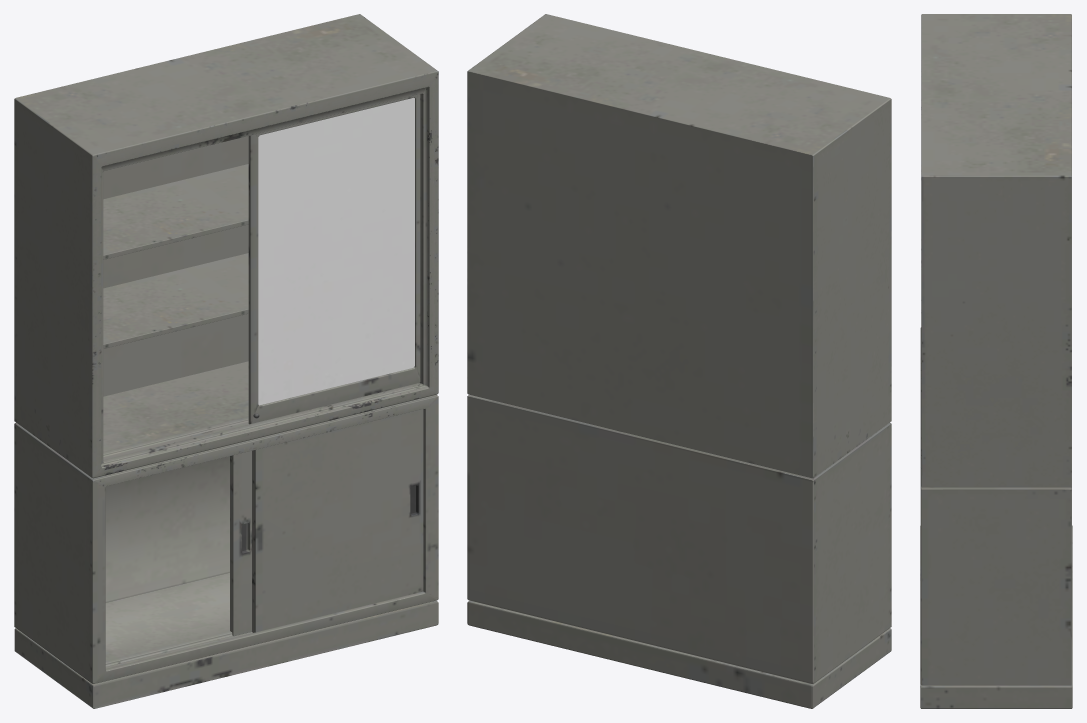
File: 195_OfficeCabinet.fbx
3 renders of one model, left to right at view 1: azimuth 30°, elevation 25°; view 2: azimuth 150°, elevation 25°; view 3: azimuth 270°, elevation 25°, orthographic. The views are drawn at different scales.
Parts seen in each view (by area): view 1: LOD_1_Group_0_Sub_1__sm30_028_OfficeCabinet03A_A_Mat, LOD_1_Group_0_Sub_2__sm30_028_OfficeCabinet03A_B_Mat; view 2: LOD_1_Group_0_Sub_1__sm30_028_OfficeCabinet03A_A_Mat; view 3: LOD_1_Group_0_Sub_1__sm30_028_OfficeCabinet03A_A_Mat.
Part boxes in pixels (bbox=[...]): LOD_1_Group_0_Sub_1__sm30_028_OfficeCabinet03A_A_Mat: bbox=[14, 14, 438, 708]; LOD_1_Group_0_Sub_2__sm30_028_OfficeCabinet03A_B_Mat: bbox=[258, 98, 414, 405]; LOD_1_Group_0_Sub_1__sm30_028_OfficeCabinet03A_A_Mat: bbox=[467, 14, 891, 708]; LOD_1_Group_0_Sub_1__sm30_028_OfficeCabinet03A_A_Mat: bbox=[920, 14, 1072, 708].
Bounding box in the file's own units: 1.48 × 2.26 × 0.5848.
